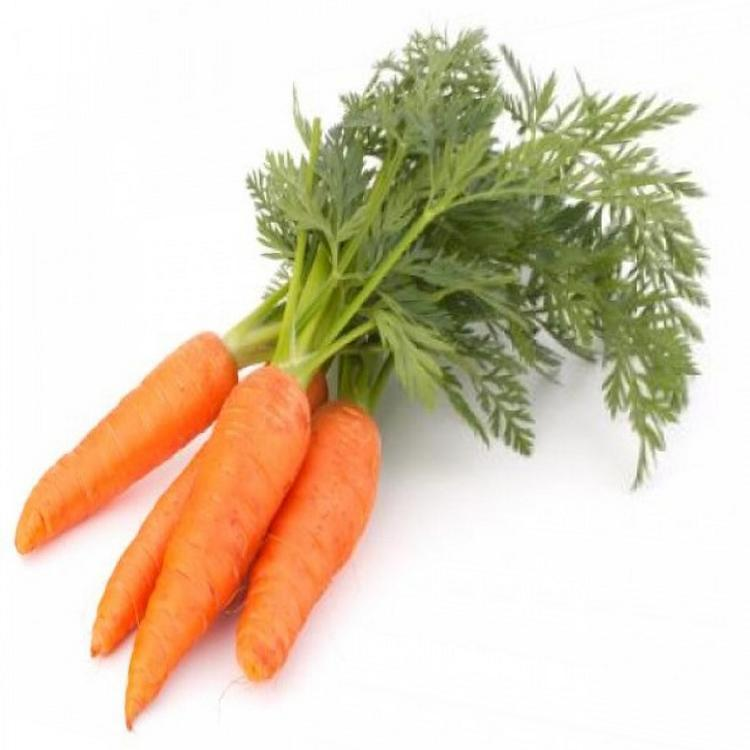carrot: (6, 56, 694, 714), (84, 358, 364, 734), (14, 324, 236, 560)
